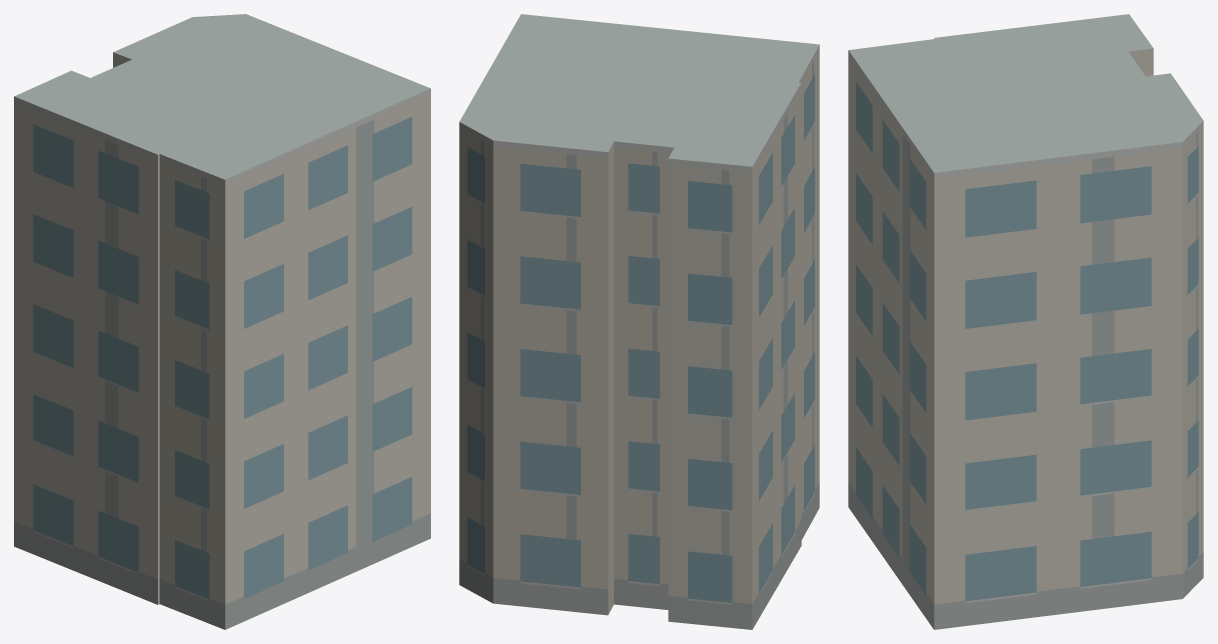
File: survey-upis-32927050.glb
3 views of the same model, side by side, from view 1: azimuth 30°, elevation 25°; view 2: azimuth 150°, elevation 25°; view 3: azimuth 270°, elevation 25° (orthographic). The views are drawn at different scales.
Visible parts, largest first — view 1: survey-upis-32927050.tmp; view 2: survey-upis-32927050.tmp; view 3: survey-upis-32927050.tmp.
Boxes of the visible parts, x1,y1,x2,y2 form: survey-upis-32927050.tmp: (14,14,430,629); survey-upis-32927050.tmp: (459,14,819,629); survey-upis-32927050.tmp: (848,14,1203,629).
Size of the model in its own units: 13.73 by 18.4 by 12.97.
